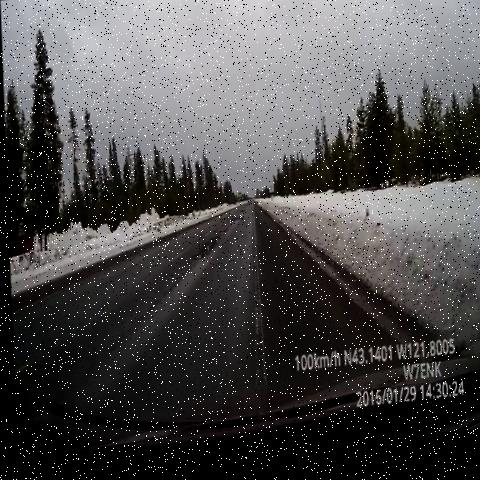pothole: (183, 224, 231, 282), (224, 218, 244, 232), (234, 211, 249, 225)
